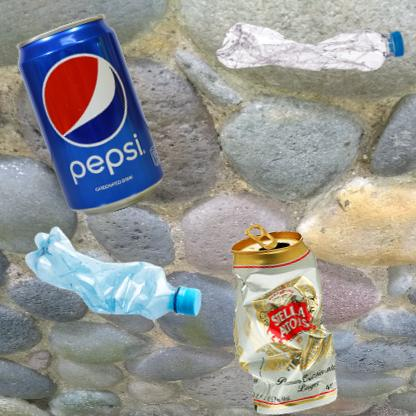botella: (10, 213, 262, 373), (213, 10, 409, 76)
lata: (10, 10, 197, 265), (213, 213, 358, 416)
